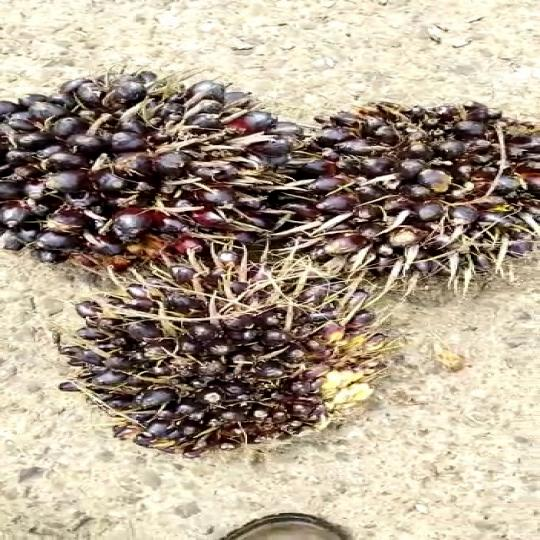mentah: (33, 278, 427, 452), (0, 58, 301, 255), (322, 78, 540, 297)
